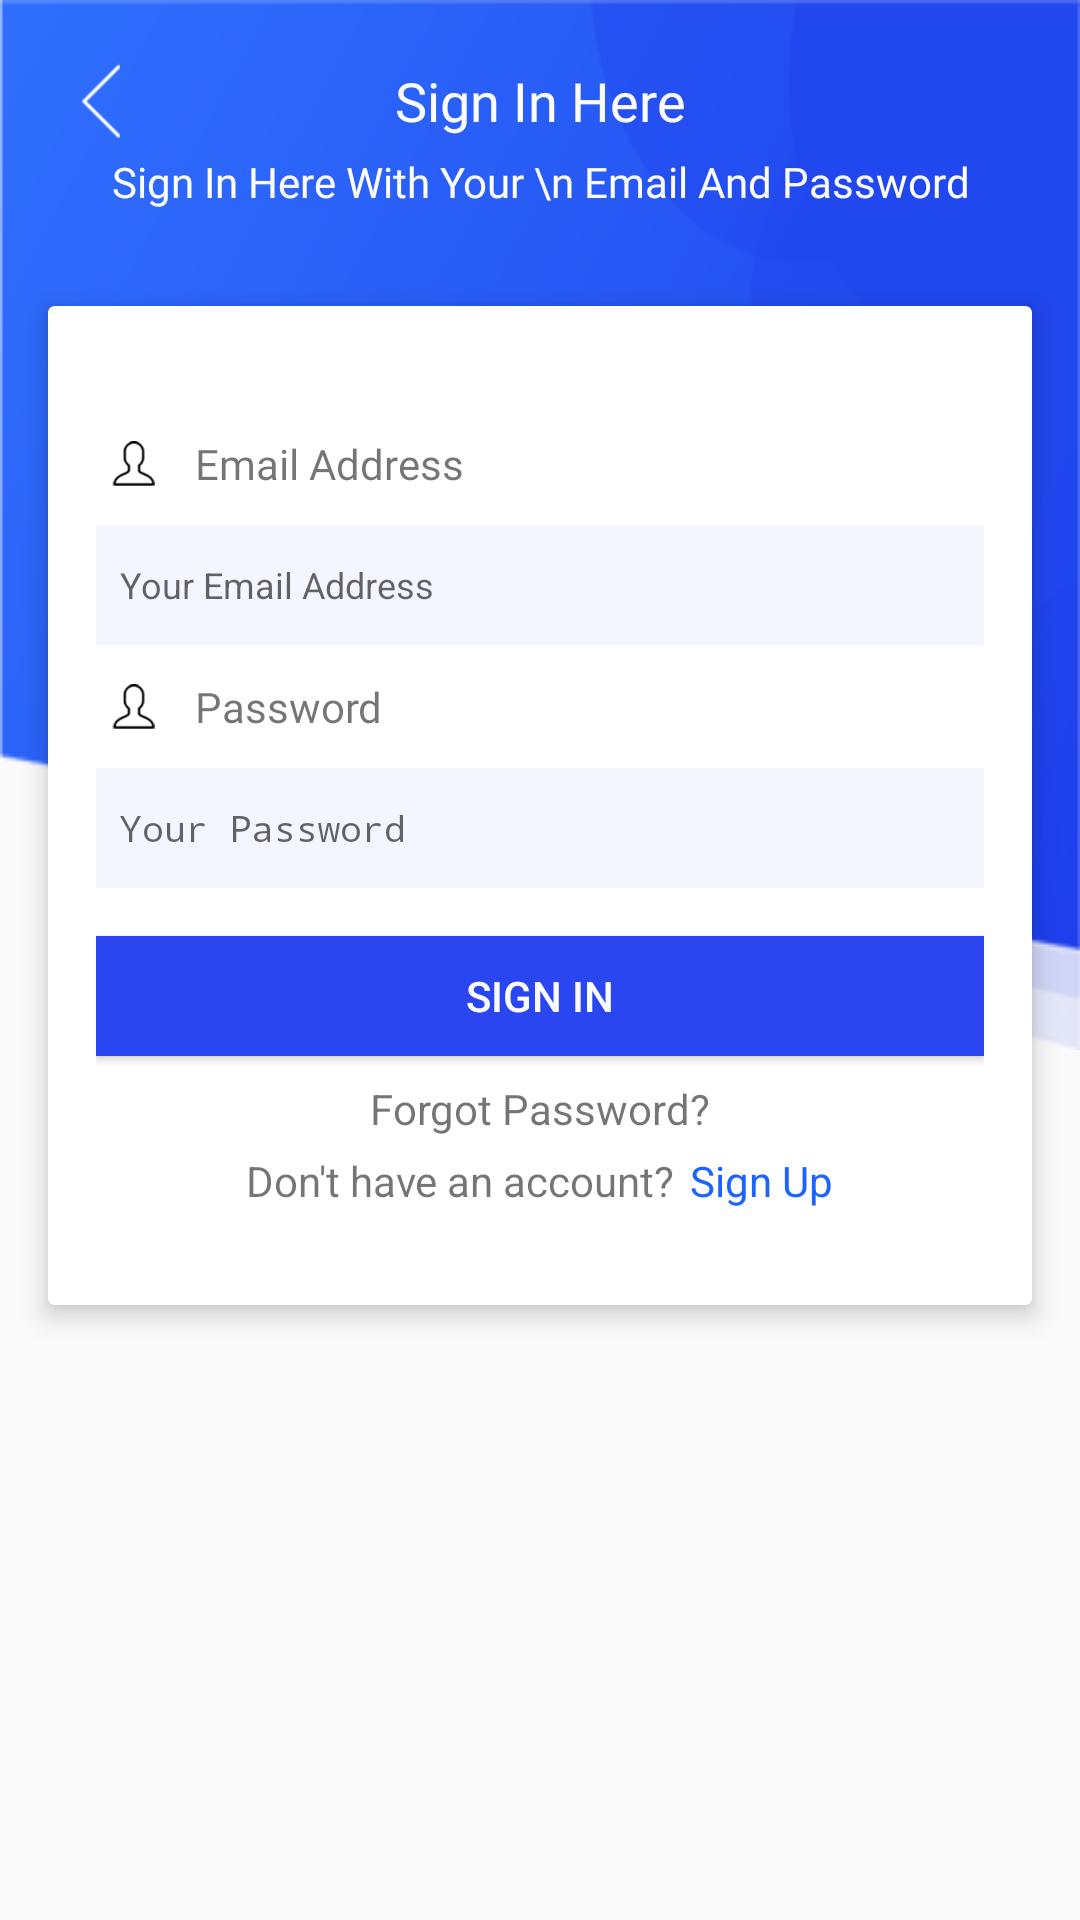

Locate icon controls on the screen. Image size 1080px×1920px, boxes as (x1, y1, x2, y2).
back: (81, 64, 120, 138)
user: (112, 441, 155, 486), (112, 684, 155, 729)
